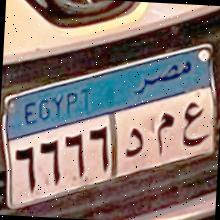6: (10, 144, 38, 198), (85, 120, 110, 175), (36, 138, 64, 186), (61, 134, 88, 176)
ain: (176, 102, 211, 150)
daal: (118, 124, 145, 164)
meem: (146, 111, 176, 154)
